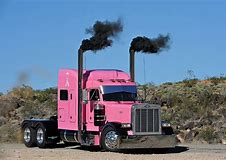smoke: (78, 19, 122, 52), (128, 31, 174, 53)
